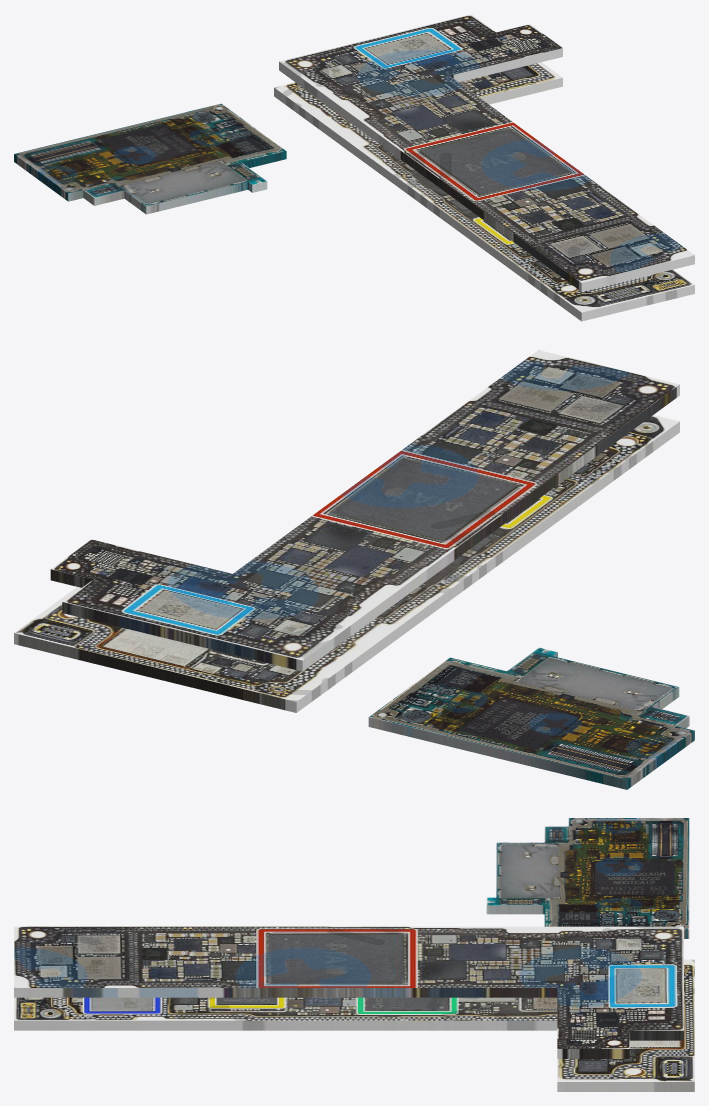
Rendered from 202107_motherboards_scene.glb.
3 renders of one model, top to bottom at view 1: azimuth 30°, elevation 25°; view 2: azimuth 150°, elevation 25°; view 3: azimuth 270°, elevation 25°, orthographic. The views are drawn at different scales.
Visible parts, largest first — view 1: iPhone 12 Part 2, iPhone 1, iPhone 12 Part 1; view 2: iPhone 12 Part 2, iPhone 1, iPhone 12 Part 1; view 3: iPhone 12 Part 2, iPhone 12 Part 1, iPhone 1.
Boxes of the visible parts, <box> form: iPhone 12 Part 2: <box>279,14,694,291</box>; iPhone 1: <box>14,103,286,214</box>; iPhone 12 Part 1: <box>274,62,694,321</box>; iPhone 12 Part 2: <box>50,350,679,671</box>; iPhone 1: <box>368,647,694,789</box>; iPhone 12 Part 1: <box>14,415,679,712</box>; iPhone 12 Part 2: <box>14,926,683,1058</box>; iPhone 12 Part 1: <box>14,959,694,1091</box>; iPhone 1: <box>486,818,689,938</box>.
Bounding box in the file's own units: 0.1727 × 0.013 × 0.188.
Materials: 3 (3 with a texture image).
